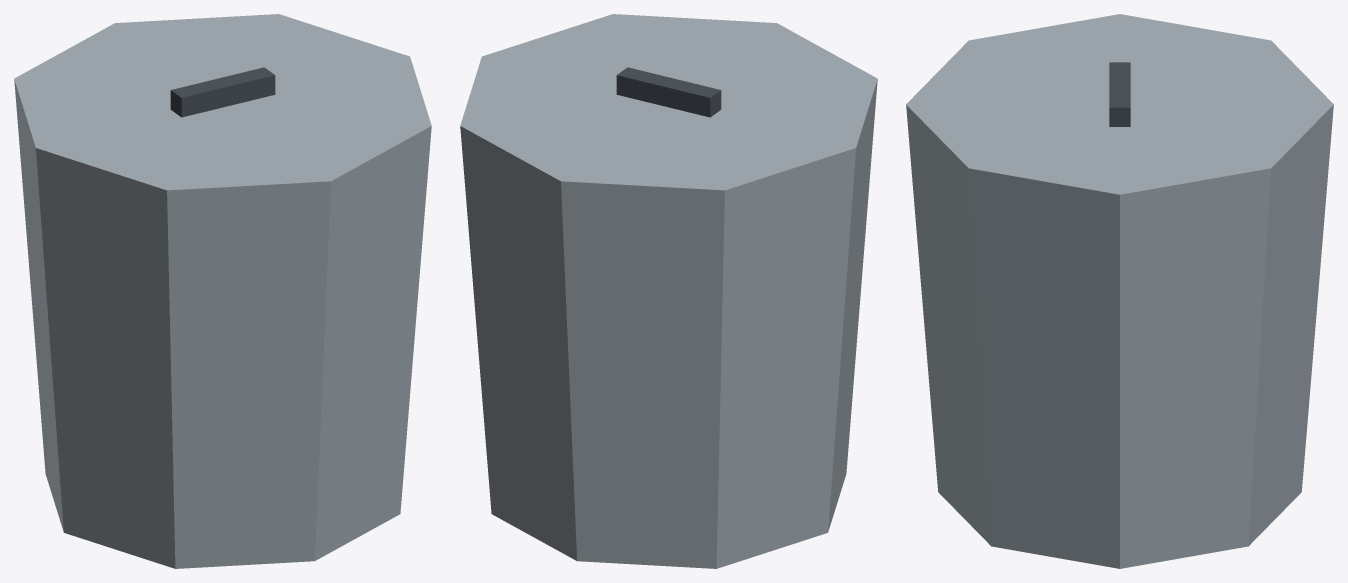
Rendered from GD_TrashCan_01.glb.
The picture shows the model from 3 angles, left to right: view 1: azimuth 30°, elevation 25°; view 2: azimuth 150°, elevation 25°; view 3: azimuth 270°, elevation 25°; orthographic projection.
Visible parts, largest first — view 1: GD_TrashCan_01; view 2: GD_TrashCan_01; view 3: GD_TrashCan_01.
Boxes of the visible parts, x1=… form: GD_TrashCan_01: x1=14, y1=14, x2=431, y2=568; GD_TrashCan_01: x1=460, y1=14, x2=877, y2=568; GD_TrashCan_01: x1=906, y1=14, x2=1333, y2=568.
Size of the model in its own units: 0.4 by 0.42 by 0.4.
Materials: 1 (1 with a texture image).
